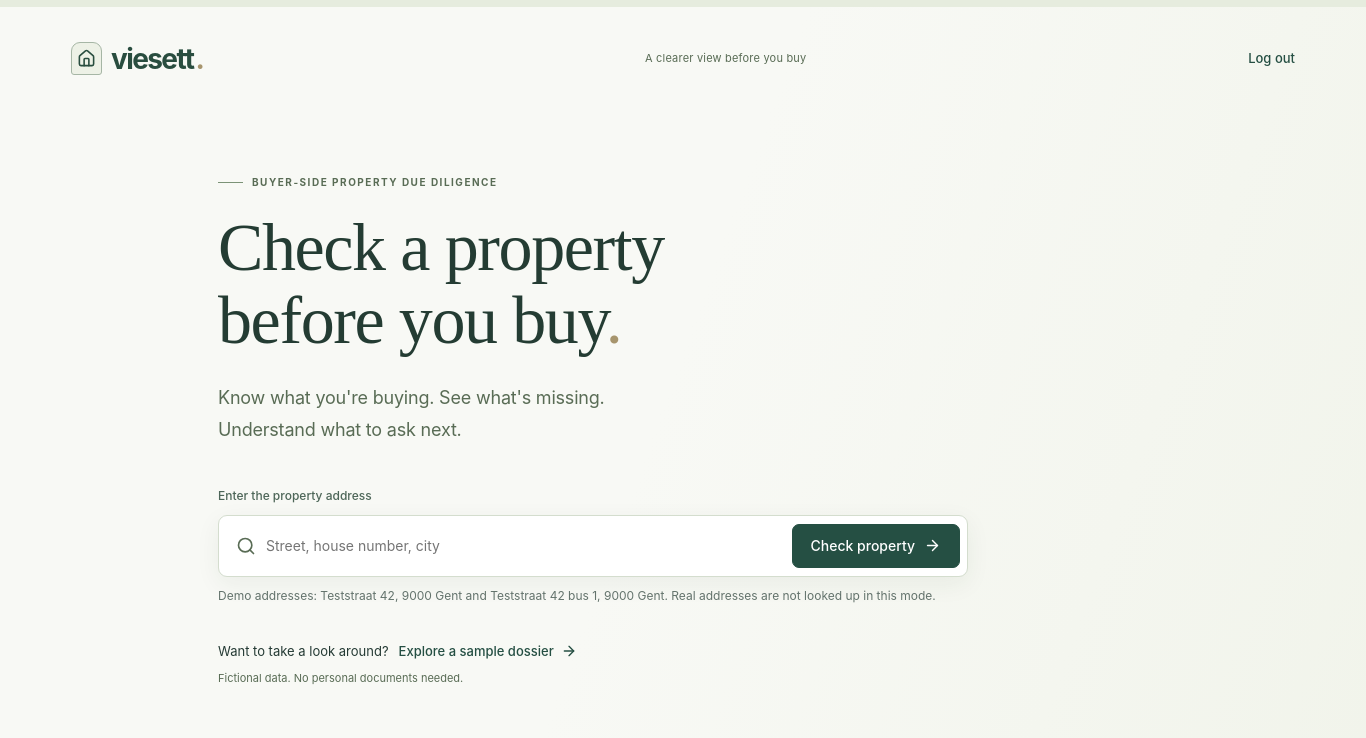
Test: ignores an older search result after the user checks a different address
Check: the button "Log out" is shown, box [1248,44,1295,73]
In the field labelled "Enter the property address": [524, 546] box [266,523,782,569], type "Teststraat 42 Gent"
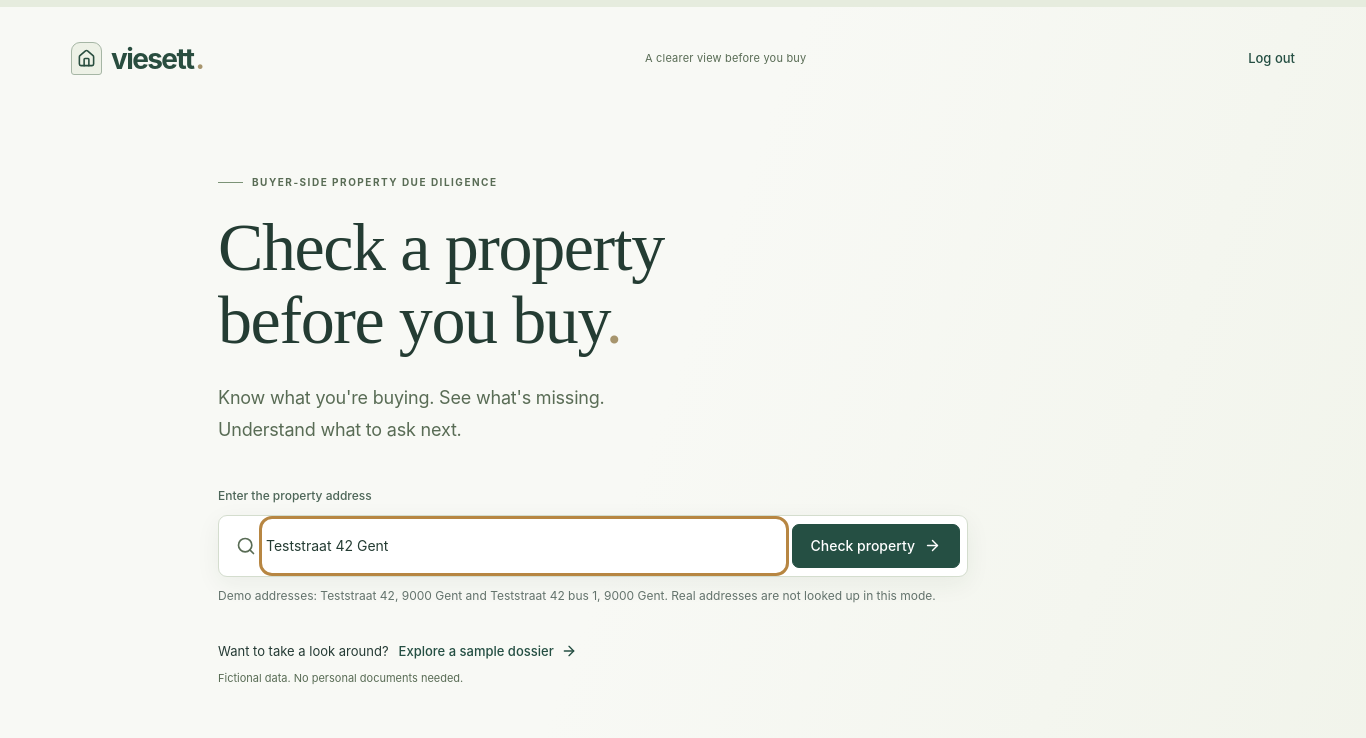
Click the button "Check property": [876, 546] box [792,524,960,568]
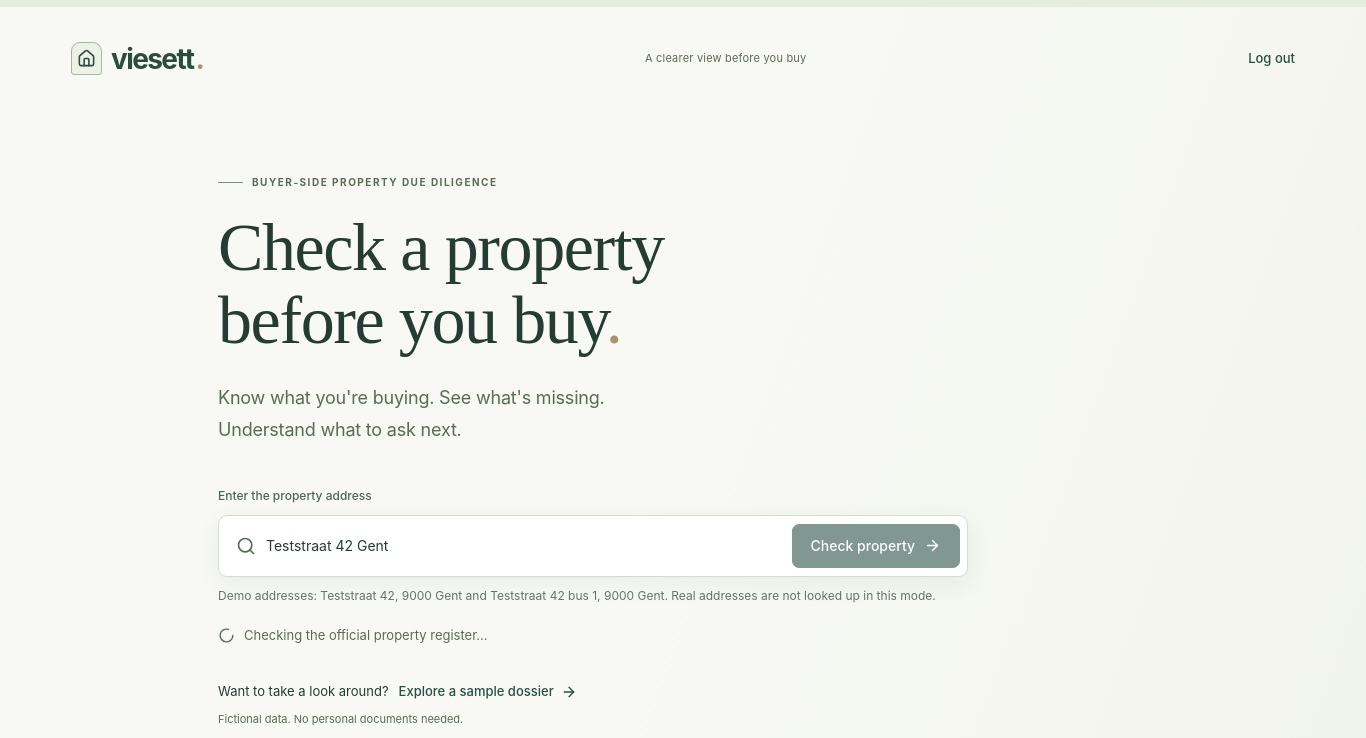
Replace the text in the field labelled "Enter the property address" with "Unrelated fictional street 999": [524, 546] box [266,523,782,569]
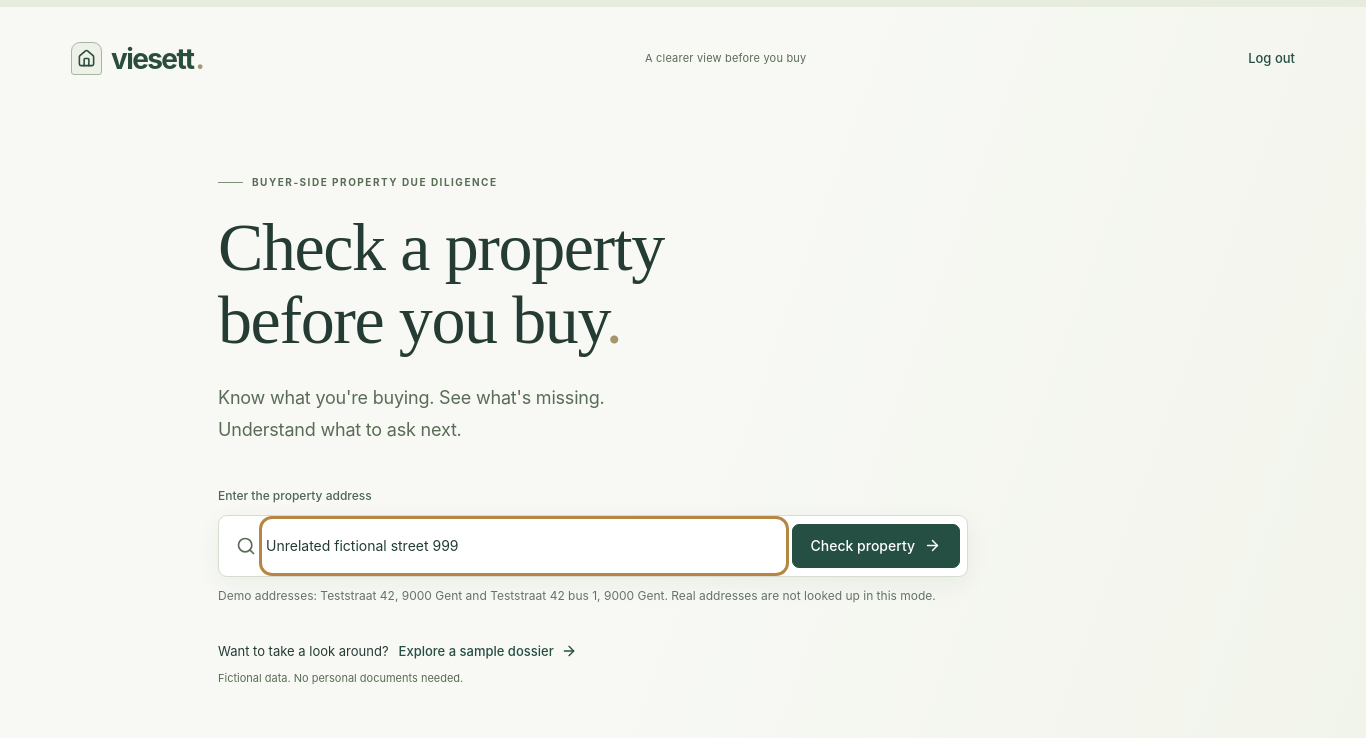
Click the button "Check property": [876, 546] box [792,524,960,568]
(page scrolled)
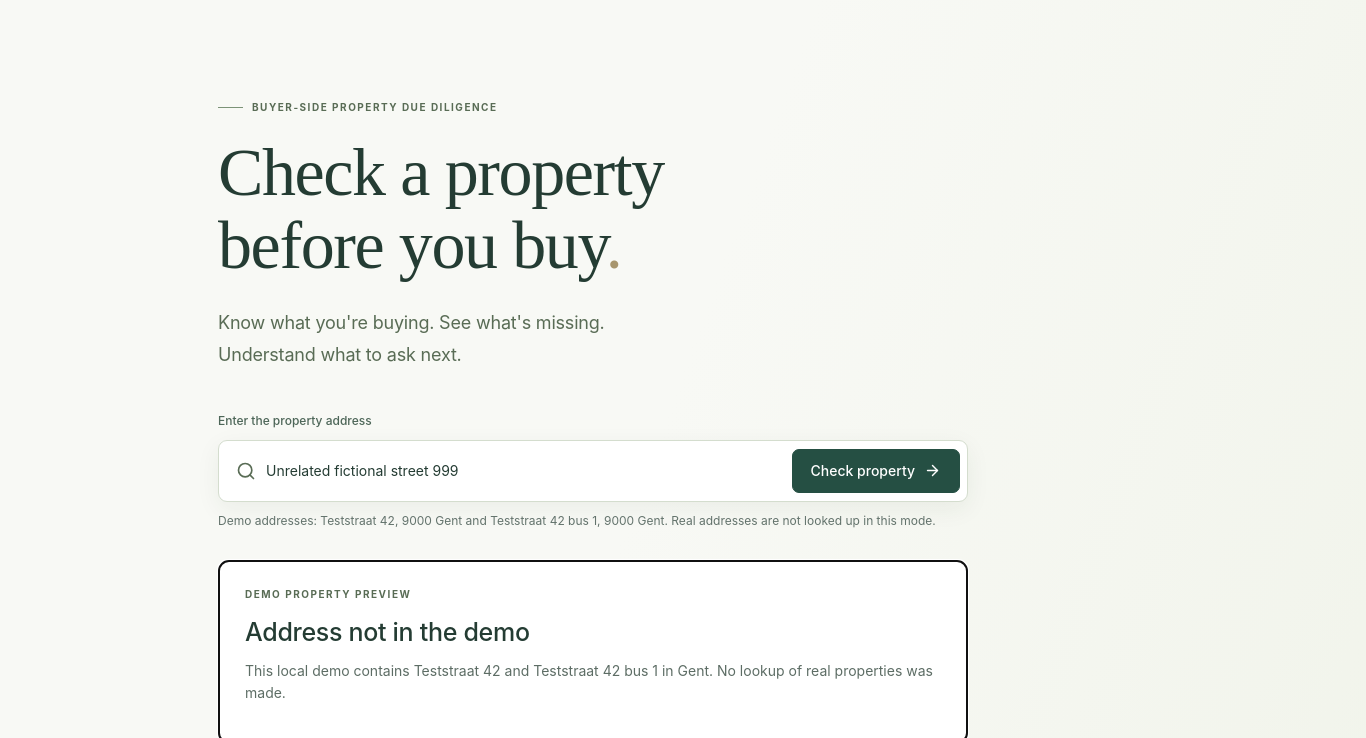
Check: the heading "Address not in the demo" is shown, box [245,617,530,647]
